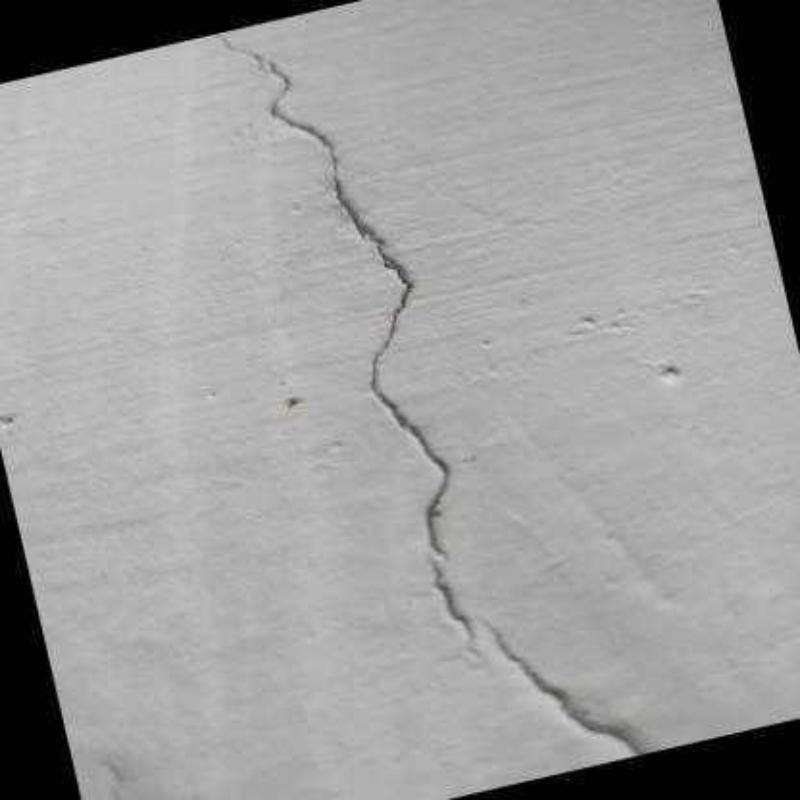crack: (210, 31, 453, 554), (484, 620, 652, 756), (425, 553, 484, 657)
